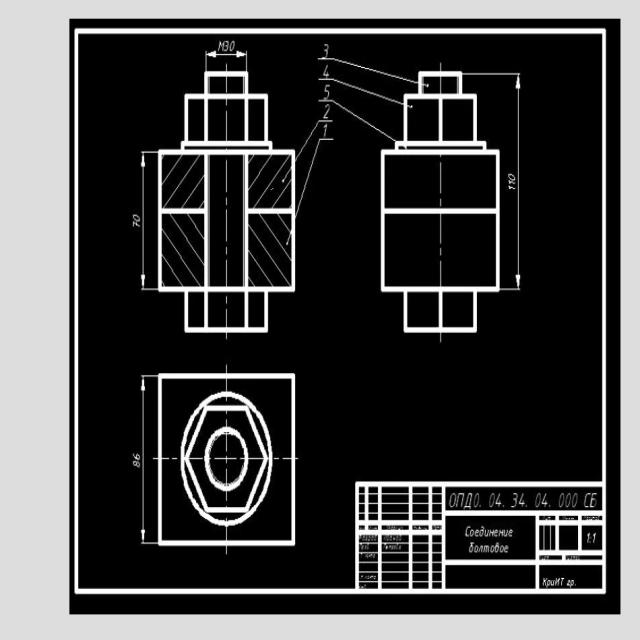marking_line: (515, 80, 521, 288), (140, 153, 148, 289), (140, 378, 145, 542), (208, 49, 247, 60)
numeric: (132, 452, 144, 470), (217, 39, 233, 52), (507, 170, 515, 194), (131, 215, 140, 230)
